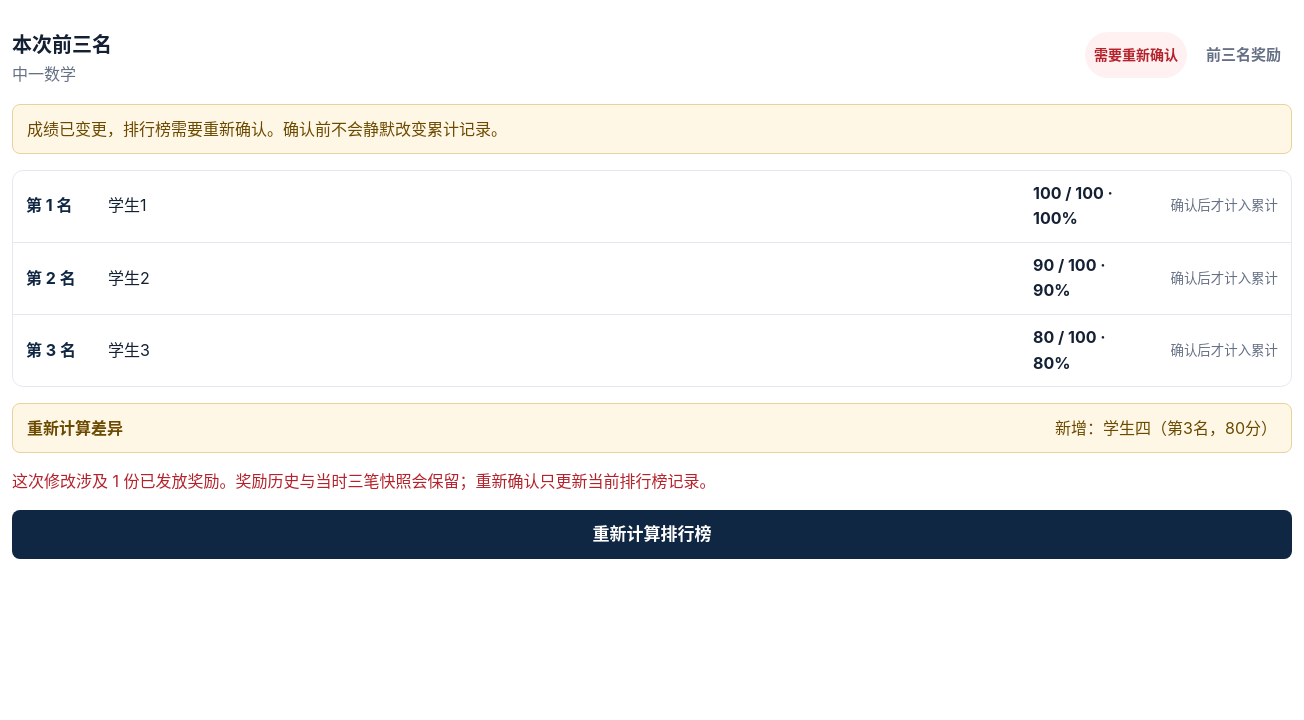
Test: QuizTopThreeSection › warns after score changes and protects awarded history behind extra confirmation
Check: the text "成绩已变更，排行榜需要重新确认。确认前不会静默改变累计记录。" is shown, box [12,104,1292,154]
Click the button "重新计算排行榜" at (652, 535), box [12,510,1292,559]
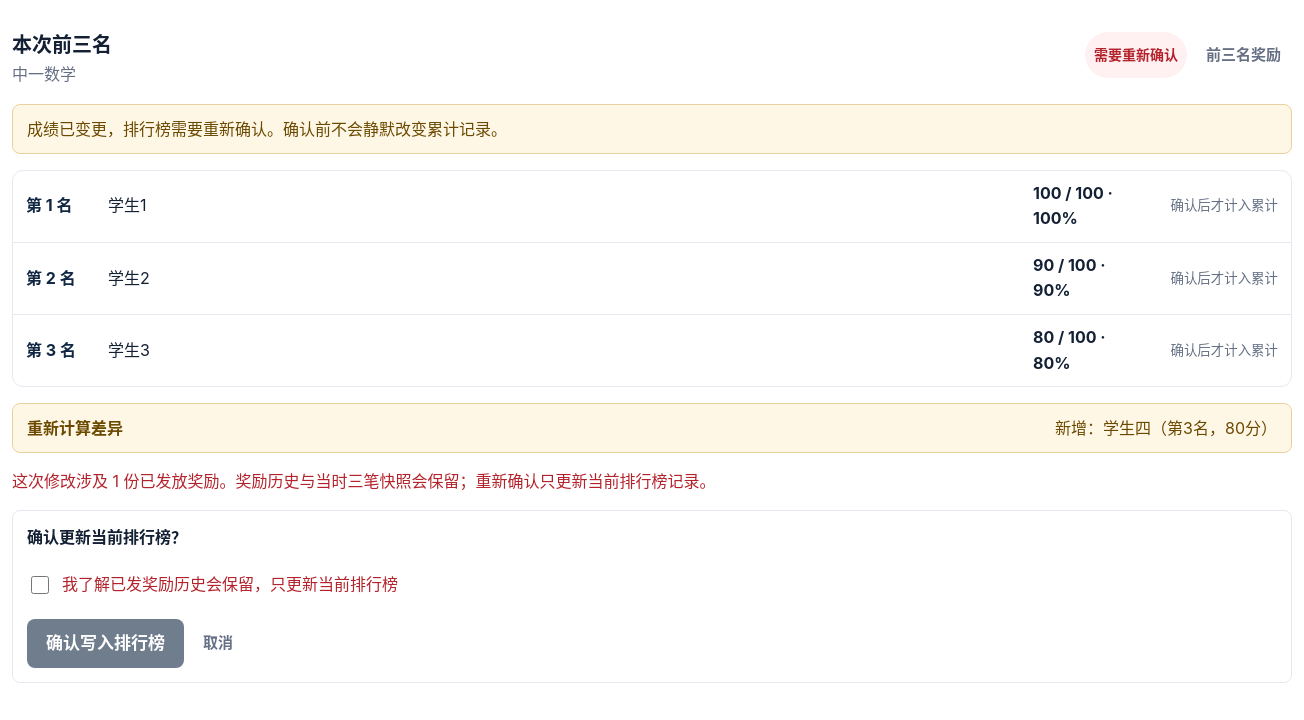
Check: the button "确认写入排行榜" is disabled, box [27,618,184,668]
Click the checkbox labelled "我了解已发奖励历史会保留，只更新当前排行榜" at (40, 584), box [31,576,49,594]
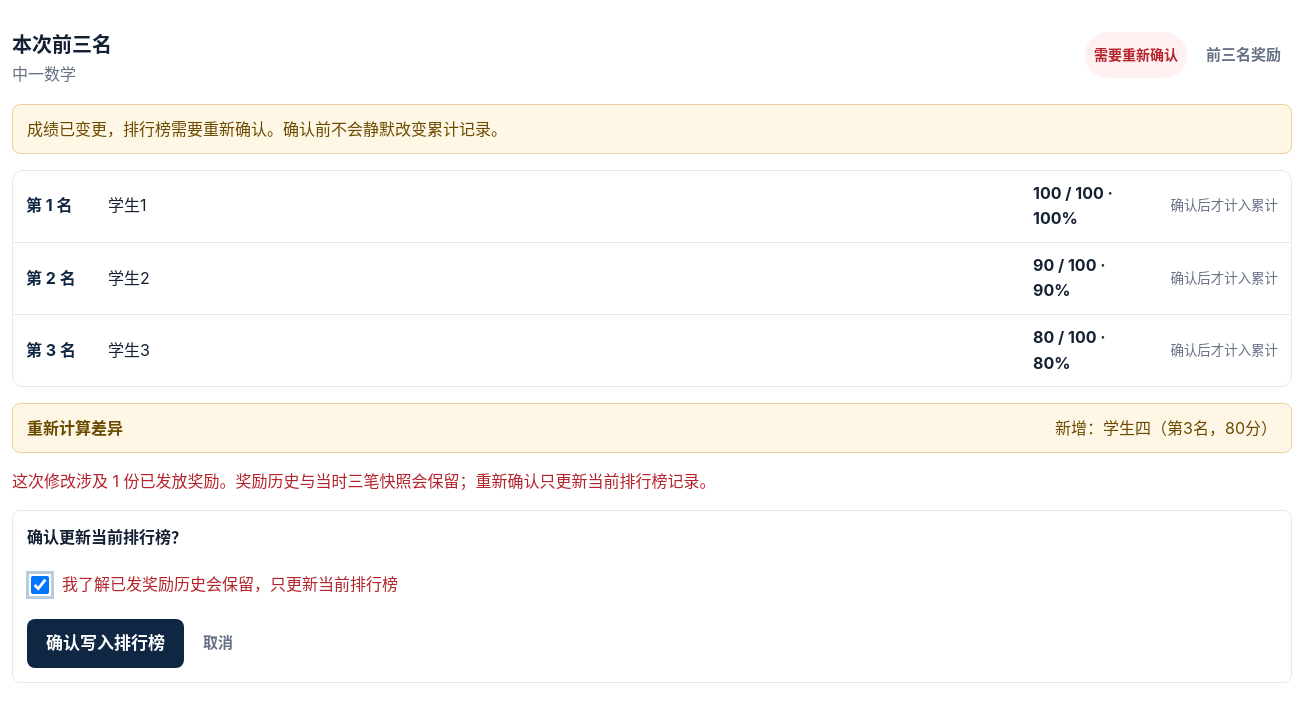
Check: the button "确认写入排行榜" is enabled, box [27,618,184,668]
